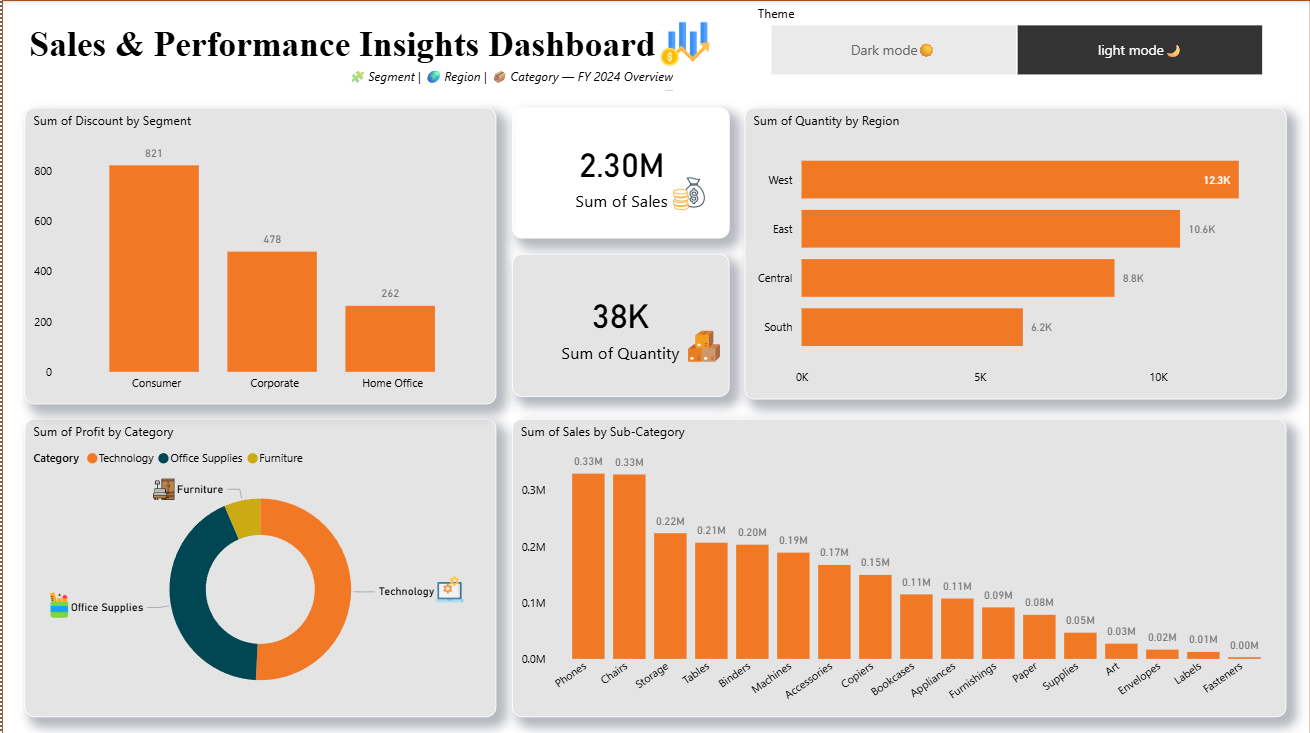

What the dashboard file says about the page in this screenshot:
{"tool":"powerbi","page":{"name":"Page 1","canvas":[1280,720],"ordinal":0},"visuals":[{"type":"shape","box":[0,0,1280.3,720.2],"z":0},{"type":"donutChart","fields":{"Category":["SalesData.Category"],"Y":["Sum(SalesData.Profit)"]},"box":[21.5,409.3,461.8,292.1],"z":1000},{"type":"clusteredColumnChart","fields":{"Y":["Sum(SalesData.Discount)"],"Category":["SalesData.Segment"]},"box":[21.5,105,461.8,290.8],"z":2000},{"type":"clusteredColumnChart","fields":{"Y":["Sum(SalesData.Sales)"],"Category":["SalesData.Sub-Category"]},"box":[499.5,409.3,757.9,292.1],"z":3000},{"type":"card","fields":{"Values":["Sum(SalesData.Sales)"]},"box":[499.5,105,212.7,127.9],"z":4000},{"type":"card","fields":{"Values":["Sum(SalesData.Quantity)"]},"box":[499.5,247.7,212.7,140],"z":5000},{"type":"barChart","fields":{"Category":["SalesData.Region"],"Y":["Sum(SalesData.Quantity)"]},"box":[727,105,530.4,285.4],"z":6000},{"type":"textbox","title":"Sales & Performance Insights Dashboard","box":[21.5,22.9,639.5,70],"z":7000},{"type":"image","box":[639.5,13.5,57.9,59.2],"z":8000},{"type":"image","box":[646.9,168.8,50.1,41.6],"z":9000},{"type":"image","box":[661.6,317.9,50.1,41.6],"z":10000},{"type":"image","box":[417,557.6,41.6,37.9],"z":11000},{"type":"image","box":[143.1,463.5,30.6,30.6],"z":12000},{"type":"image","box":[31.8,574.7,47.7,34.2],"z":13000},{"type":"slicer","fields":{"Values":["Table.Theme"]},"box":[726.4,0,530.7,79.5],"z":14000}]}

Visuals, with their boxes in screenshot pixels (x1, y1, x2, y2), scaled from the page's 1280x720 canvas onto the 1310x733 screenshot:
shape: locate(0, 0, 1309, 732)
donutChart - SalesData.Category x Sum(SalesData.Profit): locate(22, 417, 495, 714)
clusteredColumnChart - Sum(SalesData.Discount) x SalesData.Segment: locate(22, 107, 495, 403)
clusteredColumnChart - Sum(SalesData.Sales) x SalesData.Sub-Category: locate(511, 417, 1287, 714)
card - Sum(SalesData.Sales): locate(511, 107, 729, 237)
card - Sum(SalesData.Quantity): locate(511, 252, 729, 395)
barChart - SalesData.Region x Sum(SalesData.Quantity): locate(744, 107, 1287, 397)
"Sales & Performance Insights Dashboard" textbox: locate(22, 23, 676, 95)
image: locate(654, 14, 714, 74)
image: locate(662, 172, 713, 214)
image: locate(677, 324, 728, 366)
image: locate(427, 568, 469, 606)
image: locate(146, 472, 178, 503)
image: locate(33, 585, 81, 620)
slicer - Table.Theme: locate(743, 0, 1287, 81)
